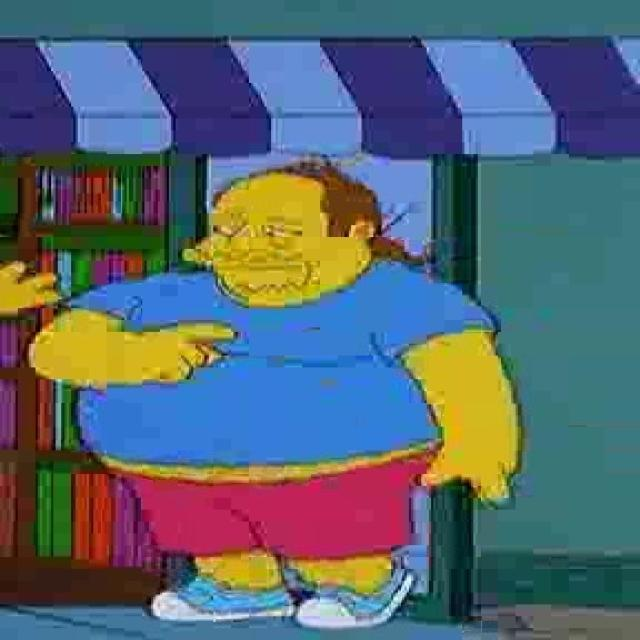Comic Book Guy: (178, 156, 400, 312)
